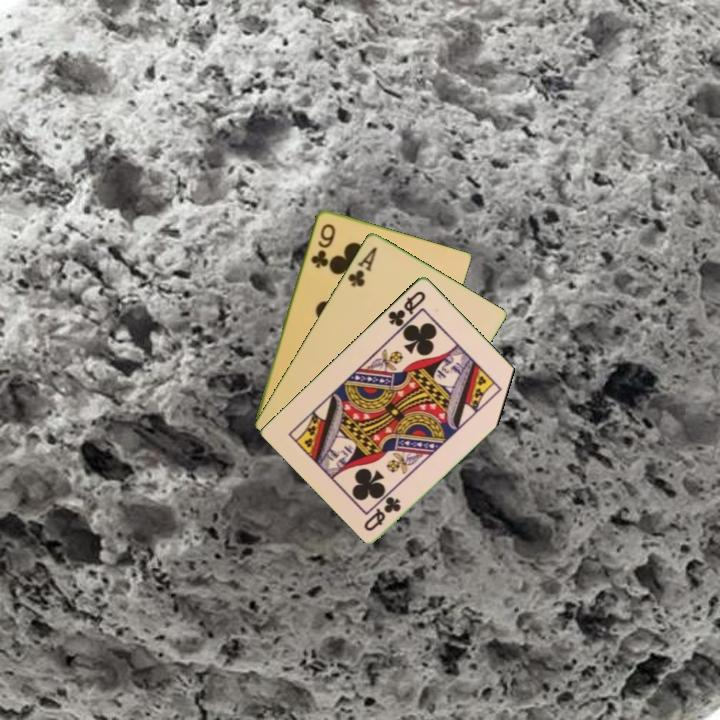9c: (307, 220, 338, 271)
Ac: (344, 243, 380, 289)
Qc: (384, 287, 428, 329), (360, 492, 404, 534)
